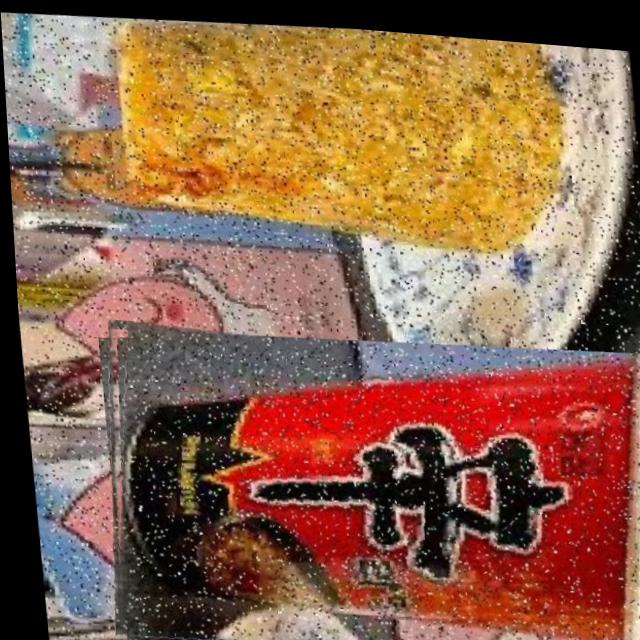Miscellaneous: (86, 306, 640, 640)
